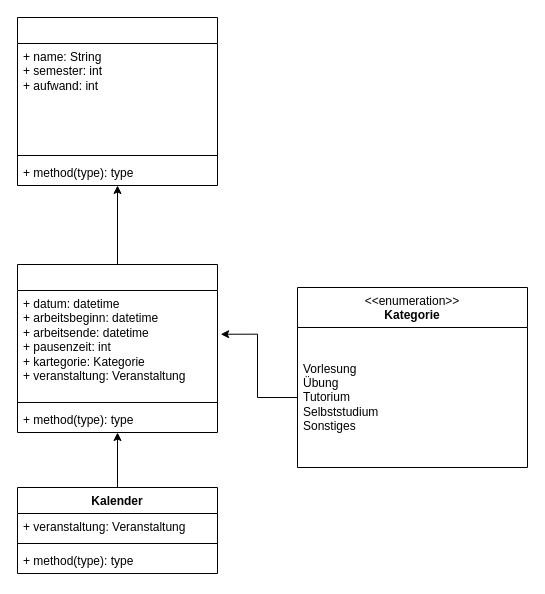
Some shapes in this 545 by 594 pixel diagram are drawn without their labels. Each missing label, with the box of its shape:
Eintrag: (16, 264, 218, 432)
Veranstaltung: (16, 16, 218, 186)
